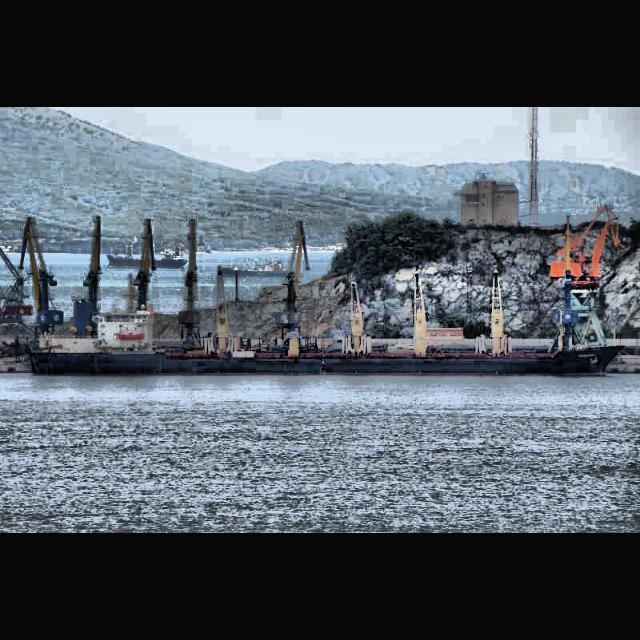bulk_carrier: (30, 268, 624, 378)
